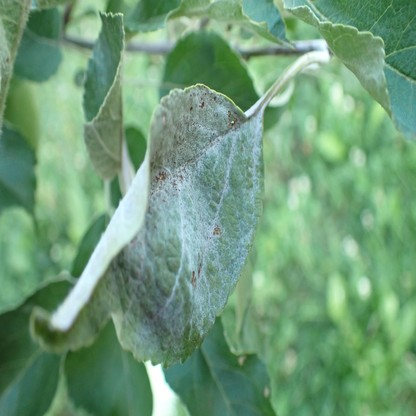powder: (50, 85, 265, 367), (349, 35, 385, 97)
